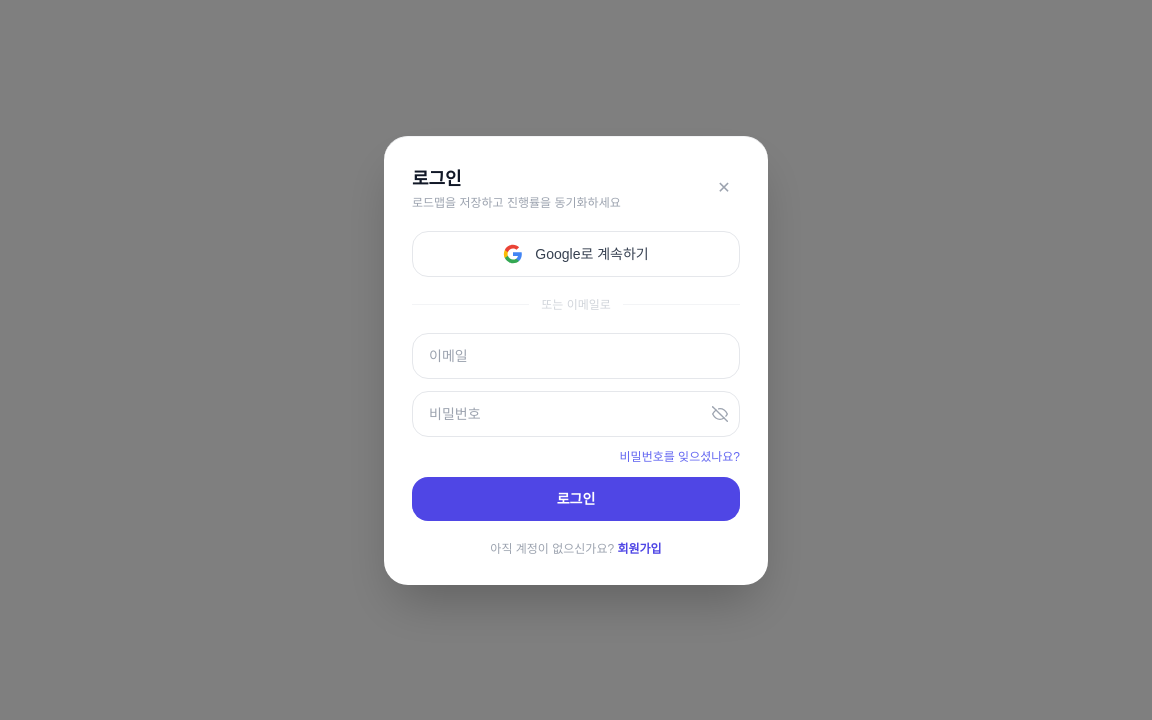
it: AuthModal password policy › rejects signup with password missing special char
Step 1. Click the button "회원가입" → coordinates (640, 548), box [618, 540, 662, 556]
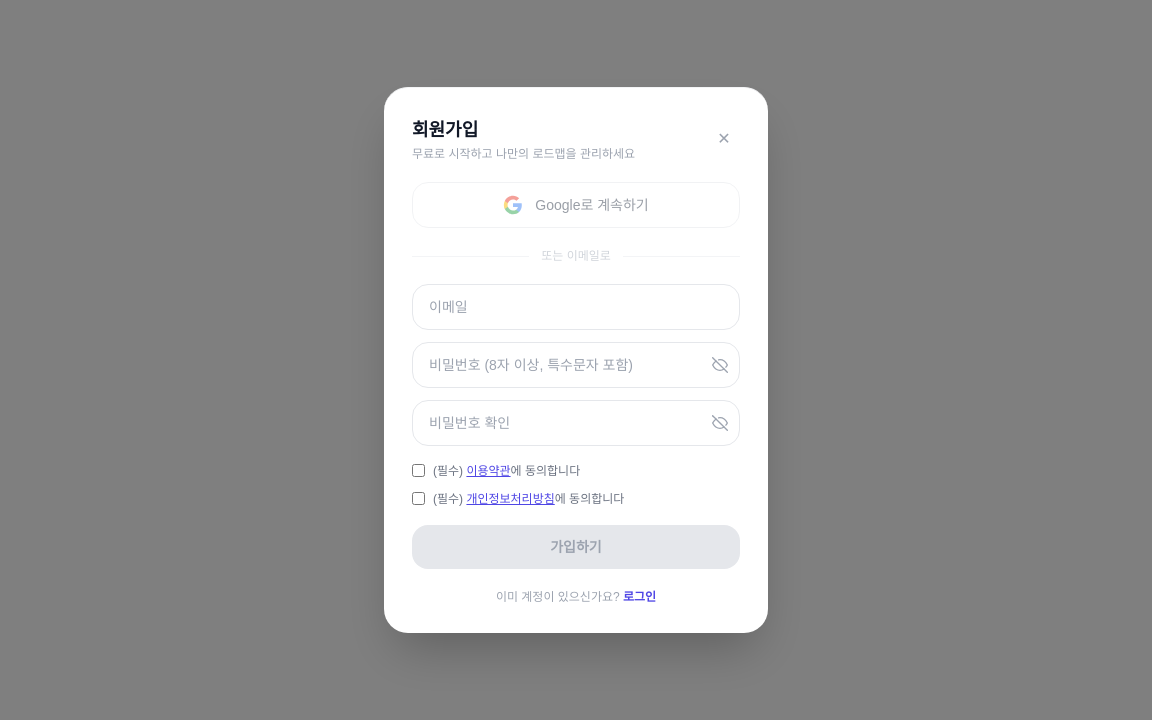
Step 2. Type "test@test.com" into the field with placeholder "이메일" → coordinates (576, 307), box [412, 284, 740, 330]
Step 3. Type "abcdefgh" into the password field with placeholder "비밀번호 (8자 이상, 특수문자 포함)" → coordinates (576, 365), box [412, 342, 740, 388]
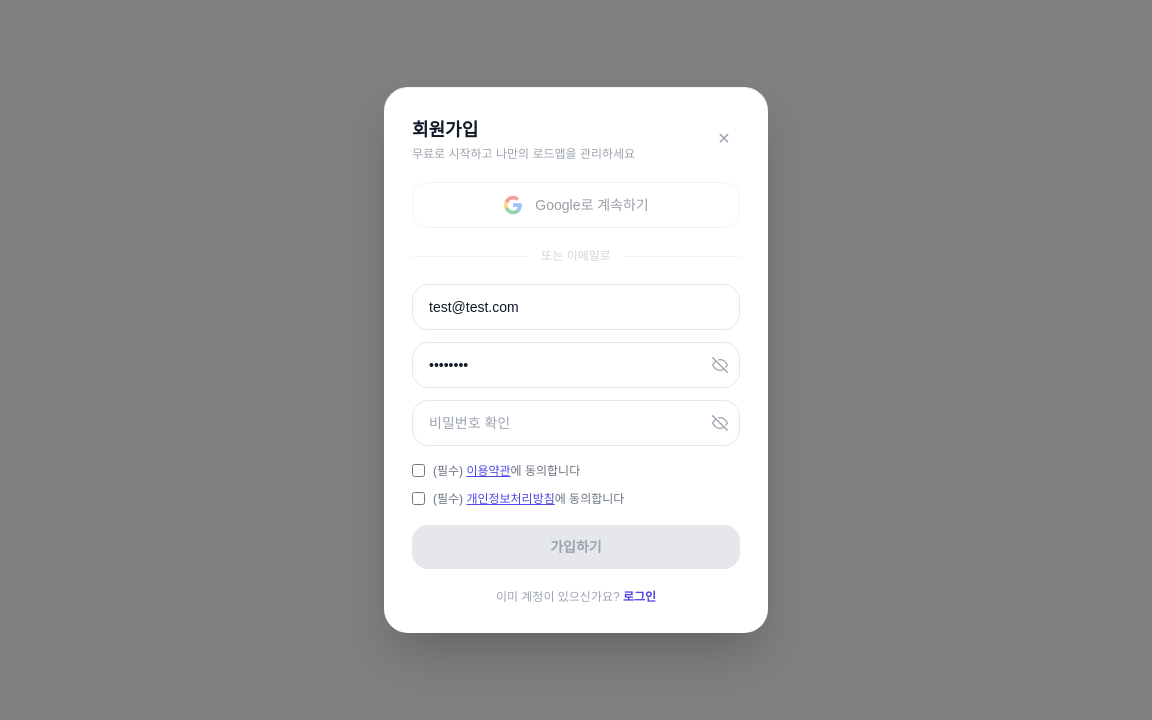
Step 4. Type "abcdefgh" into the password field with placeholder "비밀번호 확인" → coordinates (576, 423), box [412, 400, 740, 446]
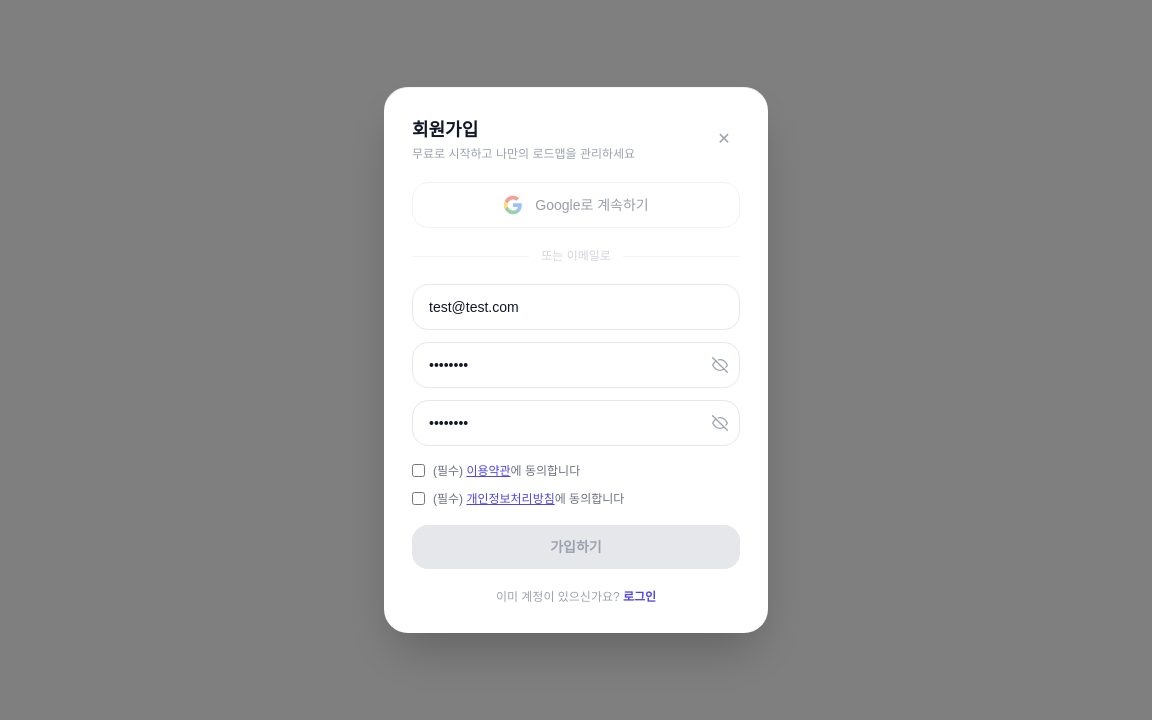
Step 5. Click the checkbox labelled "(필수) 이용약관 에 동의합니다" → coordinates (418, 470), box [412, 464, 425, 477]
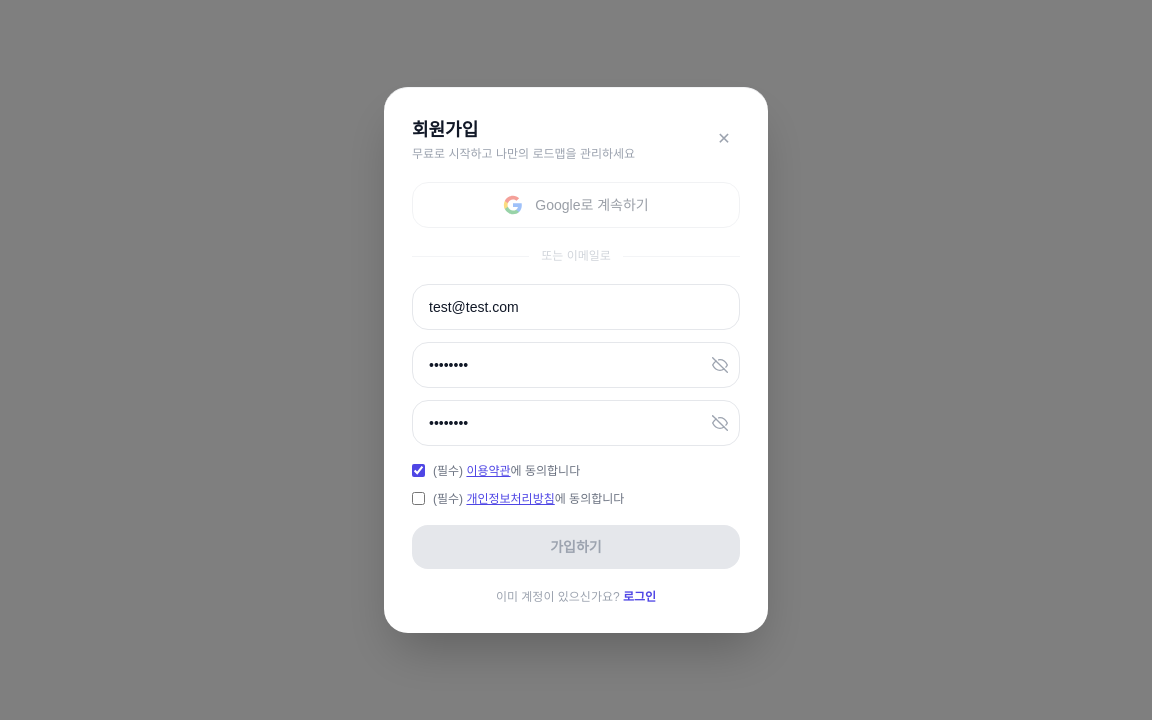
Step 6. Click the checkbox labelled "(필수) 개인정보처리방침 에 동의합니다" → coordinates (418, 498), box [412, 492, 425, 504]
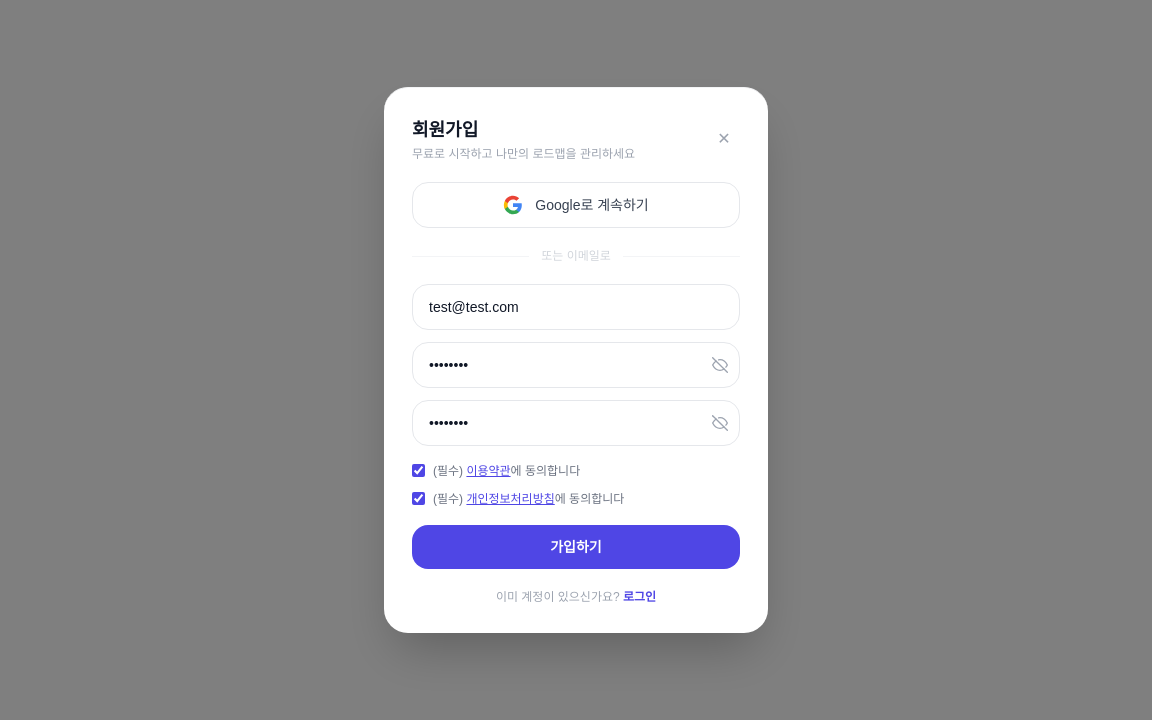
Step 7. Click the button "가입하기" → coordinates (576, 547), box [412, 525, 740, 569]
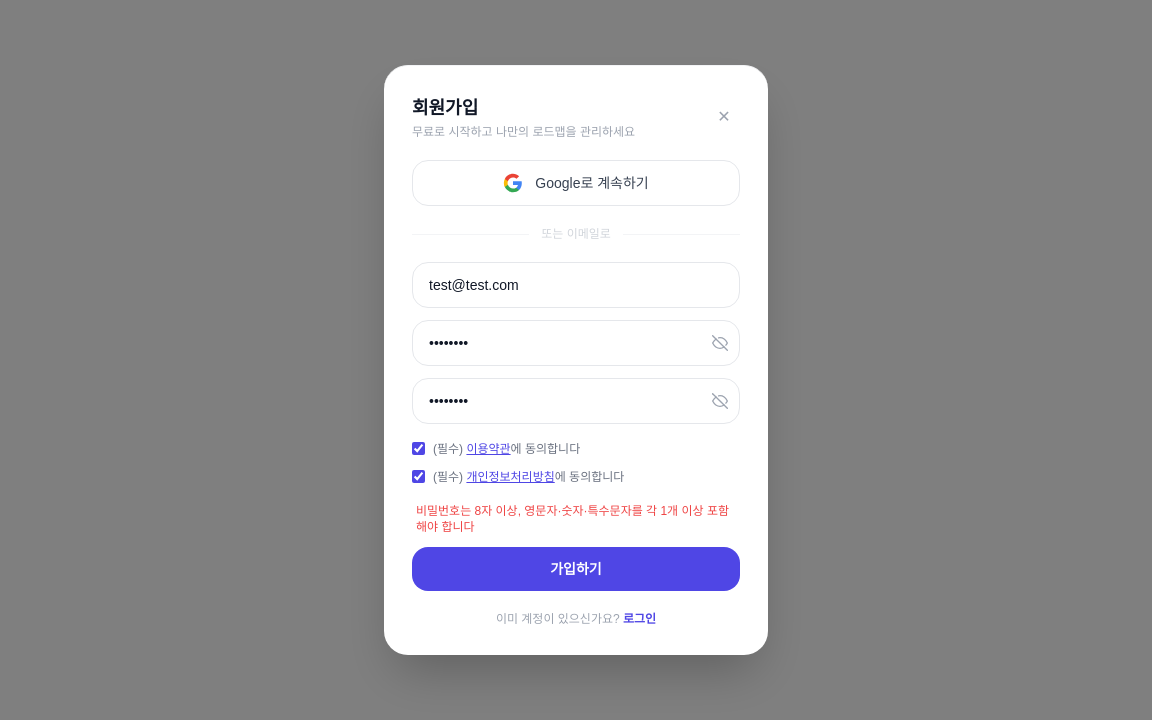
Expected: the text "비밀번호는 8자 이상, 영문자·숫자·특수문자를 각 1개 이상 포함해야 합니다" is shown, [412, 503, 740, 535]
